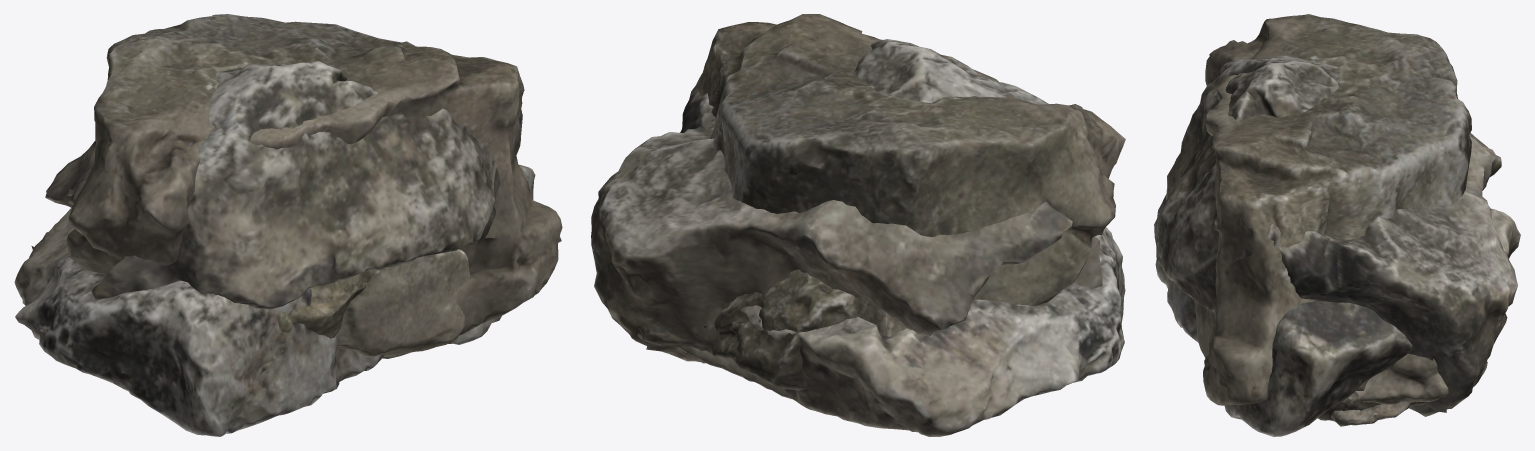
The model's file is rock_moss_set_02.glb.
3 renders of one model, left to right at view 1: azimuth 30°, elevation 25°; view 2: azimuth 150°, elevation 25°; view 3: azimuth 270°, elevation 25°, orthographic. The views are drawn at different scales.
Visible parts, largest first — view 1: rock_moss_set_02_g_LOD0, rock_moss_set_02_e_LOD0, rock_moss_set_02_d_LOD0, rock_moss_set_02_a_LOD0, rock_moss_set_02_f_LOD0; view 2: rock_moss_set_02_g_LOD0, rock_moss_set_02_e_LOD0, rock_moss_set_02_d_LOD0, rock_moss_set_02_f_LOD0, rock_moss_set_02_a_LOD0; view 3: rock_moss_set_02_g_LOD0, rock_moss_set_02_e_LOD0, rock_moss_set_02_d_LOD0, rock_moss_set_02_a_LOD0, rock_moss_set_02_c_LOD0, rock_moss_set_02_f_LOD0.
Part boxes in pixels (<box>): rock_moss_set_02_g_LOD0: <box>66,14,562,358</box>; rock_moss_set_02_e_LOD0: <box>45,61,521,309</box>; rock_moss_set_02_d_LOD0: <box>14,165,535,436</box>; rock_moss_set_02_a_LOD0: <box>337,249,470,356</box>; rock_moss_set_02_f_LOD0: <box>257,270,379,375</box>; rock_moss_set_02_g_LOD0: <box>696,14,1125,305</box>; rock_moss_set_02_e_LOD0: <box>591,39,1102,363</box>; rock_moss_set_02_d_LOD0: <box>740,227,1125,436</box>; rock_moss_set_02_f_LOD0: <box>637,272,857,390</box>; rock_moss_set_02_a_LOD0: <box>674,269,906,399</box>; rock_moss_set_02_g_LOD0: <box>1203,14,1471,405</box>; rock_moss_set_02_e_LOD0: <box>1157,56,1517,416</box>; rock_moss_set_02_d_LOD0: <box>1154,194,1520,436</box>; rock_moss_set_02_a_LOD0: <box>1194,300,1448,404</box>; rock_moss_set_02_c_LOD0: <box>1331,401,1411,426</box>; rock_moss_set_02_f_LOD0: <box>1317,361,1487,421</box>.
Size of what is drawn, in the model's own units: 2.2 by 1.31 by 1.55.
Materials: 1 (1 with a texture image).
